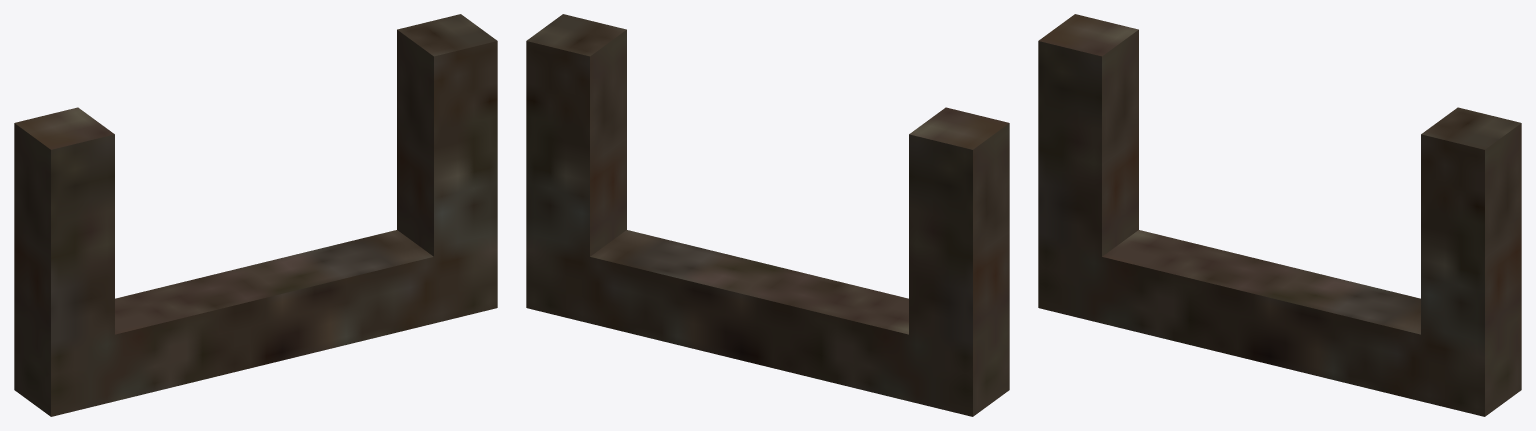
File: light_switch.vmf.obj
3 views of the same model, side by side, from view 1: azimuth 30°, elevation 25°; view 2: azimuth 150°, elevation 25°; view 3: azimuth 330°, elevation 25° (orthographic).
Visible parts, largest first — view 1: 3, 4, 5; view 2: 3, 4, 5; view 3: 3, 5, 4.
Part boxes in pixels (<box>): 3: <box>14,230,497,416</box>; 4: <box>397,14,497,256</box>; 5: <box>14,107,114,349</box>; 3: <box>526,230,1009,416</box>; 4: <box>526,14,626,256</box>; 5: <box>909,107,1009,349</box>; 3: <box>1038,230,1521,416</box>; 5: <box>1038,14,1138,256</box>; 4: <box>1421,107,1521,349</box>.
Bounding box in the file's own units: 7 × 4 × 1.
1 material, 1 textured.
